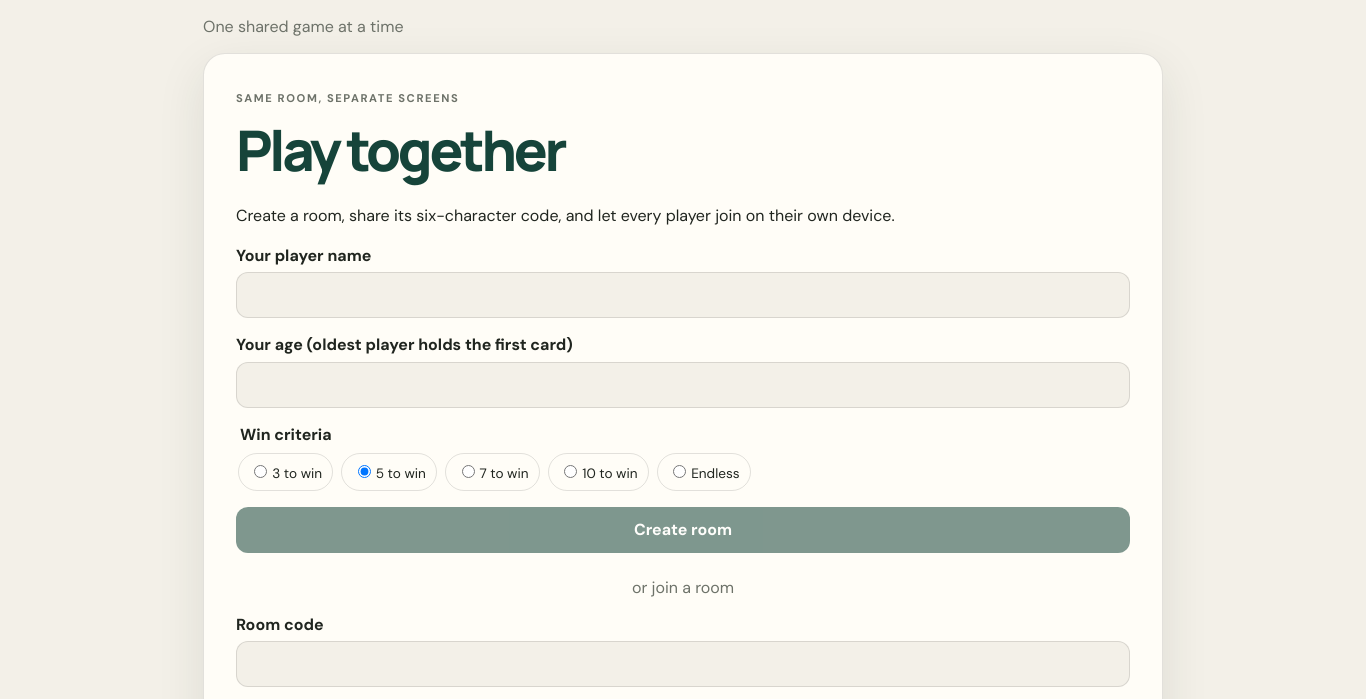
Test: a busy create attempt reports the current room wait time
Type "Ada" into the field labelled "Your player name".
click(683, 295); type("Ada")  # box [236,272,1130,318]
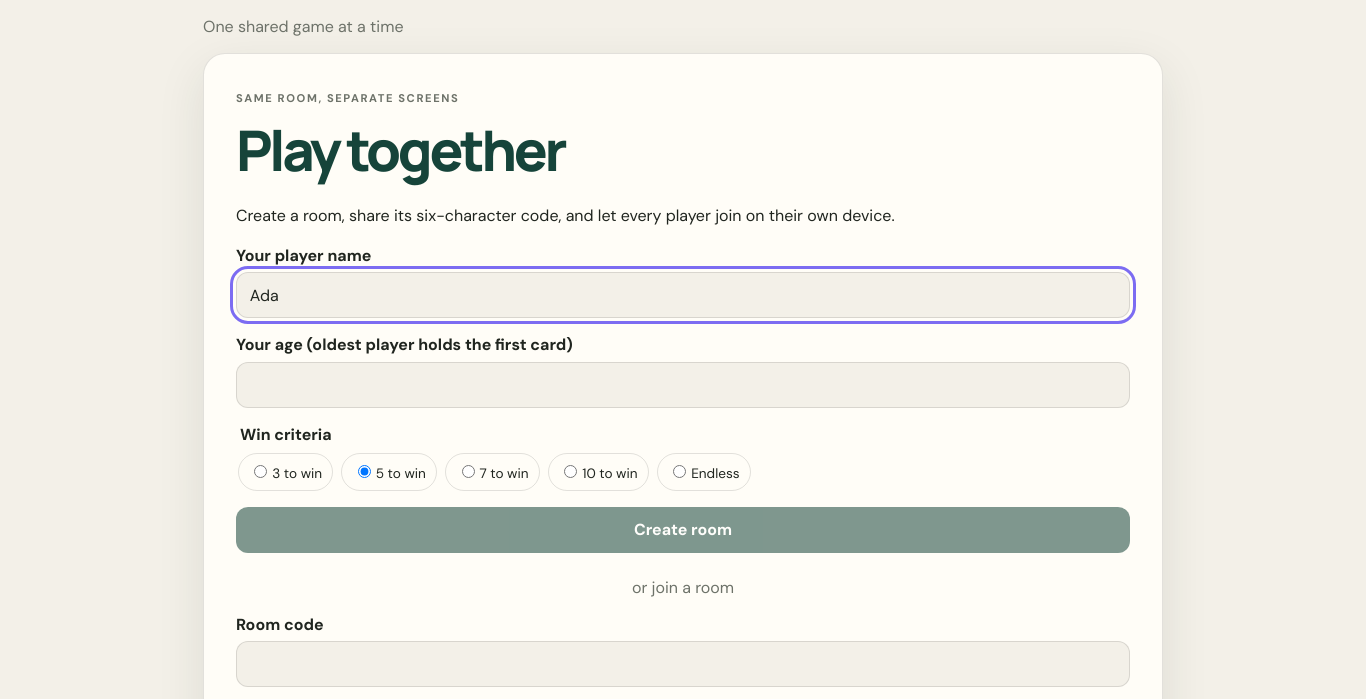
Type "40" into the number field labelled "Your age (oldest player holds the first card)".
click(683, 385); type("40")  # box [236,362,1130,408]
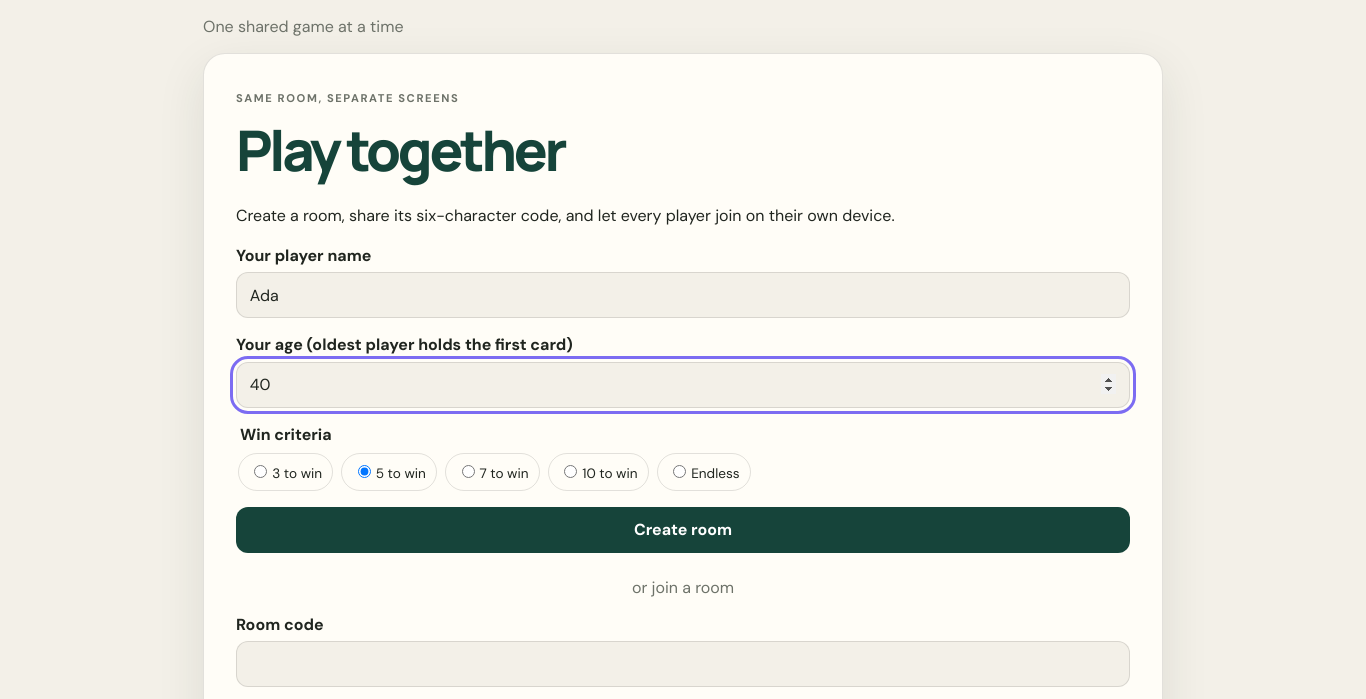
Click the button "Create room".
click(683, 530)  # box [236,507,1130,553]
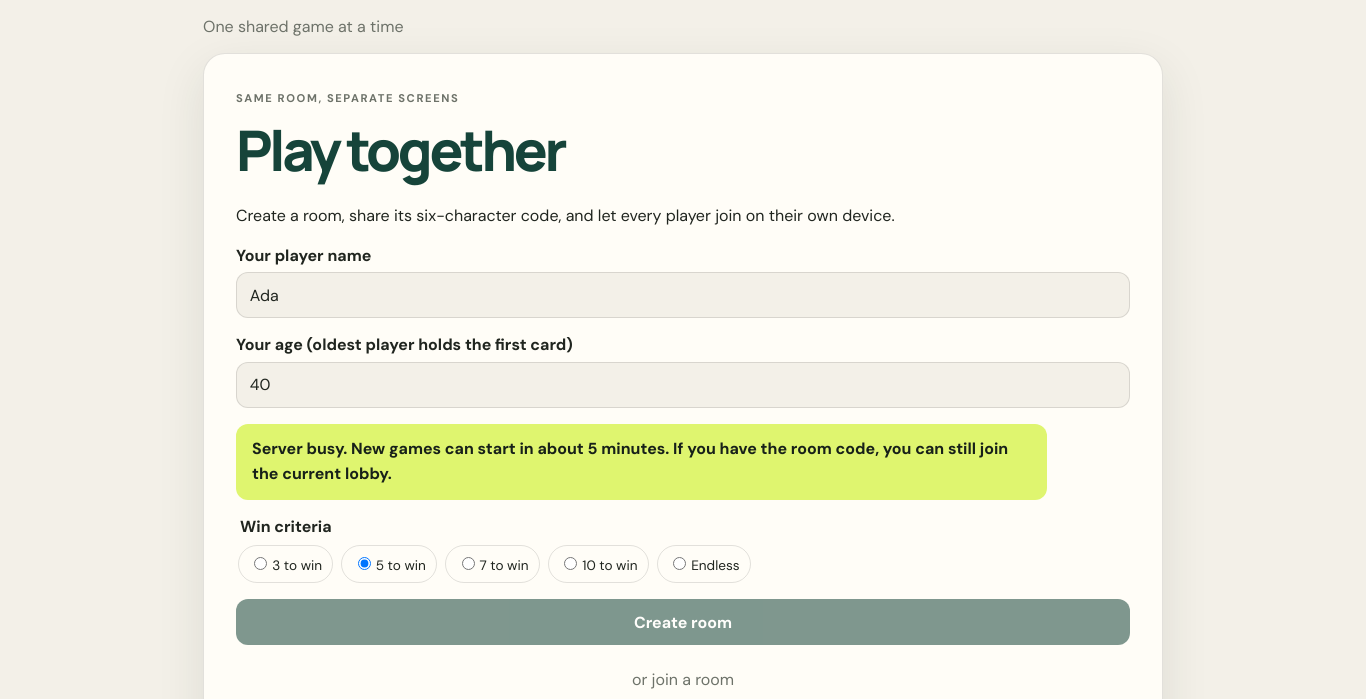
Expected: the text "5 minutes" is shown, [588,438,665,459]
